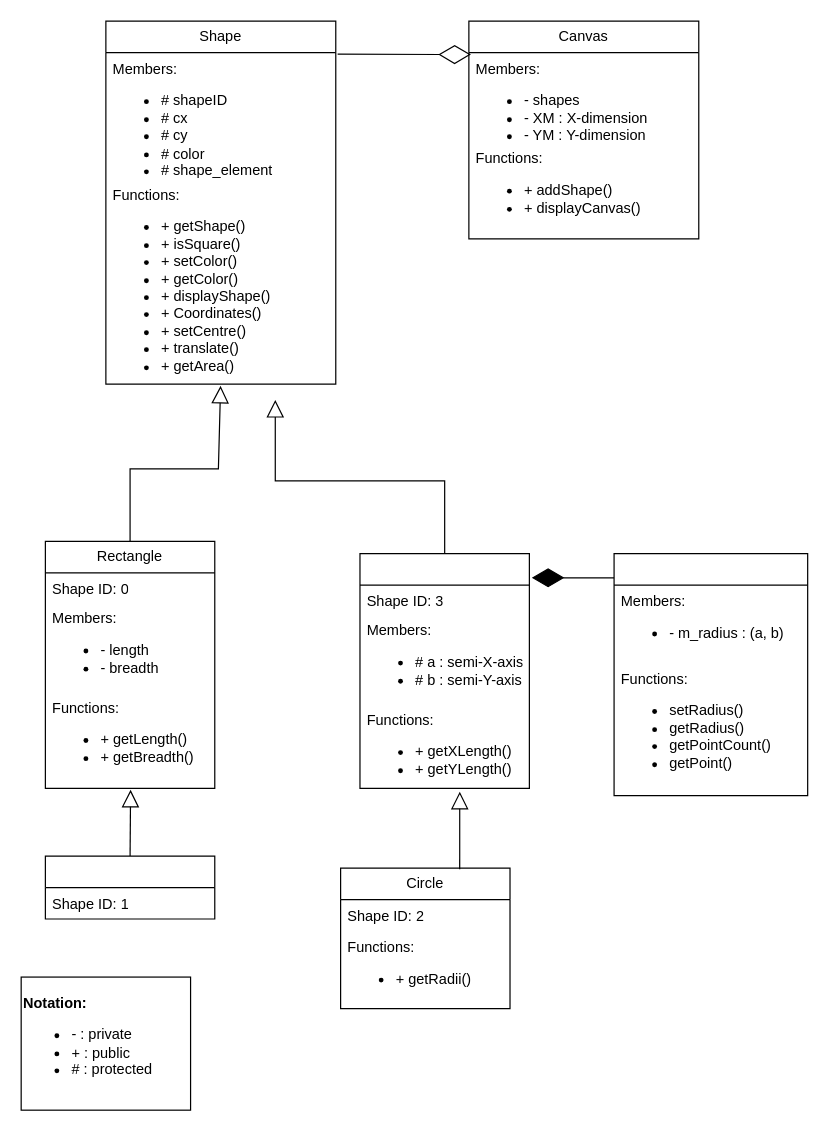
This 829x1131 diagram has some shape labels left out. Here are the shapes that lost their labels. From the top down, the box of each, then its label:
(359, 552, 529, 788): Ellipse
(613, 552, 808, 796): EllipseShape
(44, 855, 215, 919): Square
